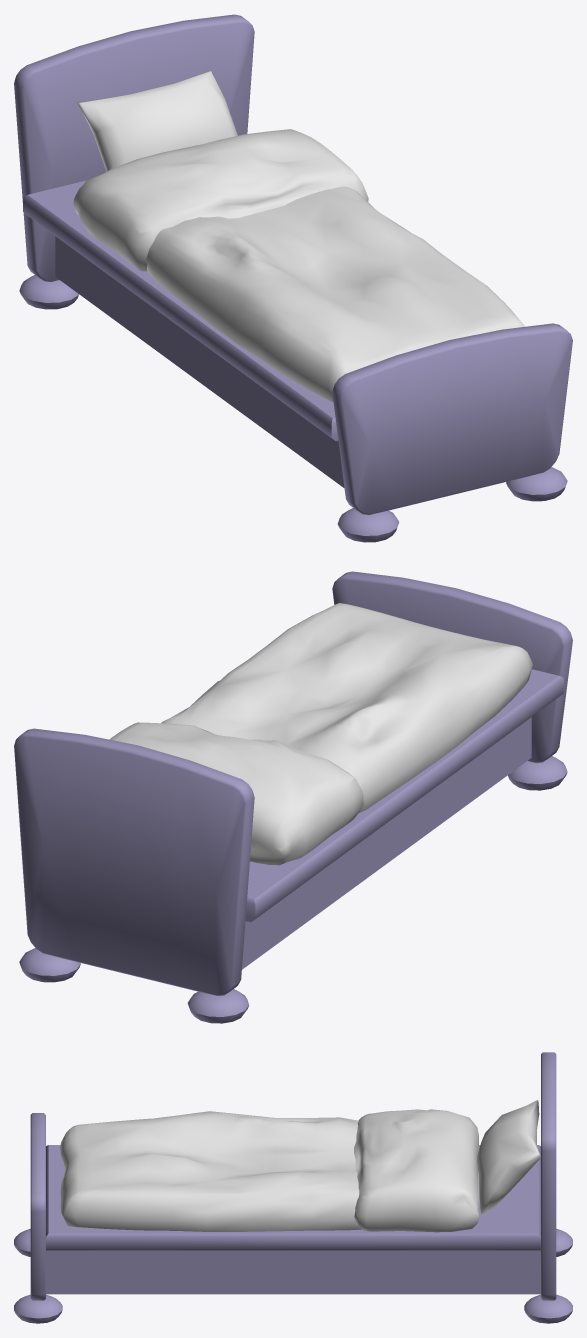
The model's file is MammutBed.FBX.
3 renders of one model, top to bottom at view 1: azimuth 30°, elevation 25°; view 2: azimuth 150°, elevation 25°; view 3: azimuth 270°, elevation 25°, orthographic. The views are drawn at different scales.
Visible parts, largest first — view 1: MammutBed; view 2: MammutBed; view 3: MammutBed.
Part boxes in pixels (<box>): MammutBed: <box>14,14,572,542</box>; MammutBed: <box>14,571,572,1023</box>; MammutBed: <box>14,1052,572,1323</box>.
Size of the model in its own units: 70.37 by 181 by 69.99.
